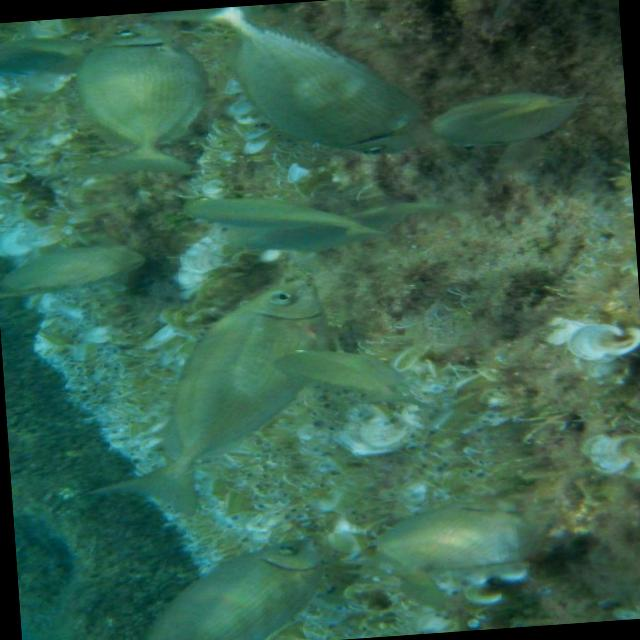Sokar Baligi: (134, 0, 428, 192), (55, 7, 218, 202)
